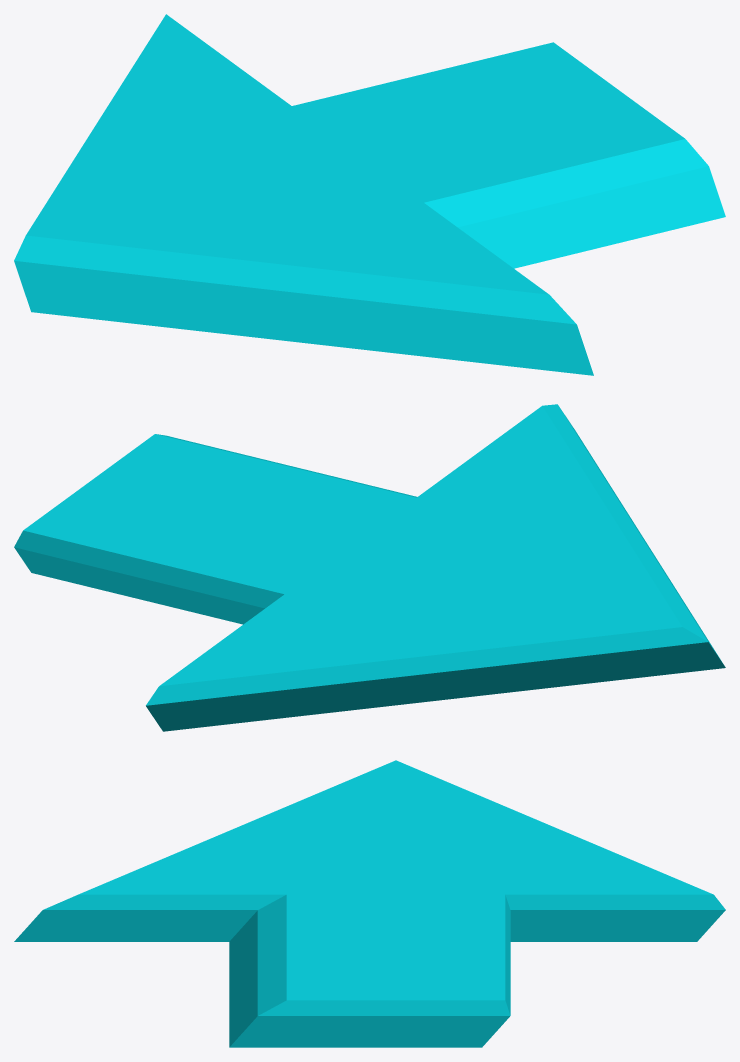
File: arrowHead.fbx
3 views of the same model, one above another, from view 1: azimuth 30°, elevation 25°; view 2: azimuth 150°, elevation 25°; view 3: azimuth 270°, elevation 25° (orthographic). The views are drawn at different scales.
Parts seen in each view (by area): view 1: Plane.008; view 2: Plane.008; view 3: Plane.008.
Part boxes in pixels (x1,y1,x2,y2): Plane.008: (14, 14, 725, 375); Plane.008: (14, 404, 725, 731); Plane.008: (14, 760, 725, 1047).
Bounding box in the file's own units: 469 × 39.22 × 563.
